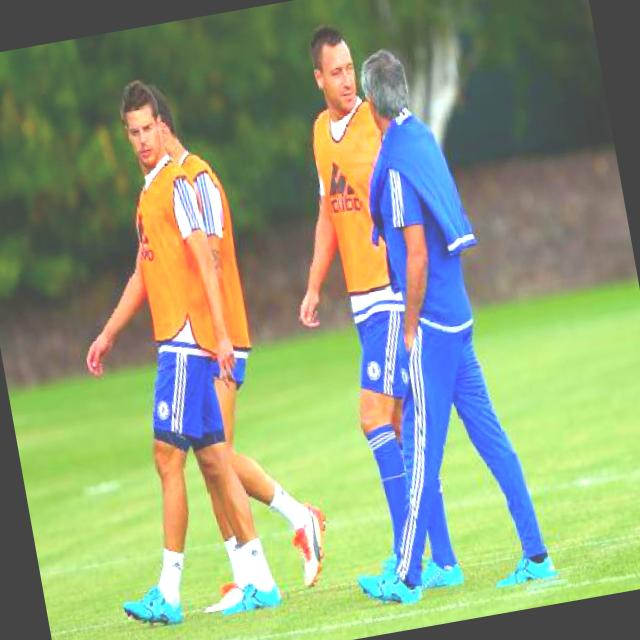Person: (28, 65, 285, 640)
